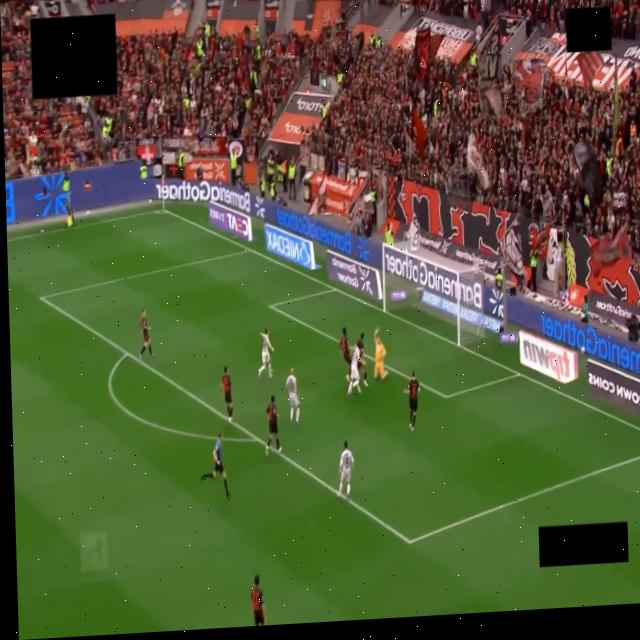player: (265, 396, 281, 455), (337, 441, 353, 499), (404, 371, 418, 431), (257, 329, 273, 377), (250, 575, 265, 625), (286, 368, 299, 424), (347, 346, 360, 395), (139, 309, 152, 358), (221, 365, 232, 422), (339, 327, 350, 382), (374, 330, 386, 379), (356, 333, 367, 386), (66, 201, 74, 227)
referee: (200, 433, 228, 497)
